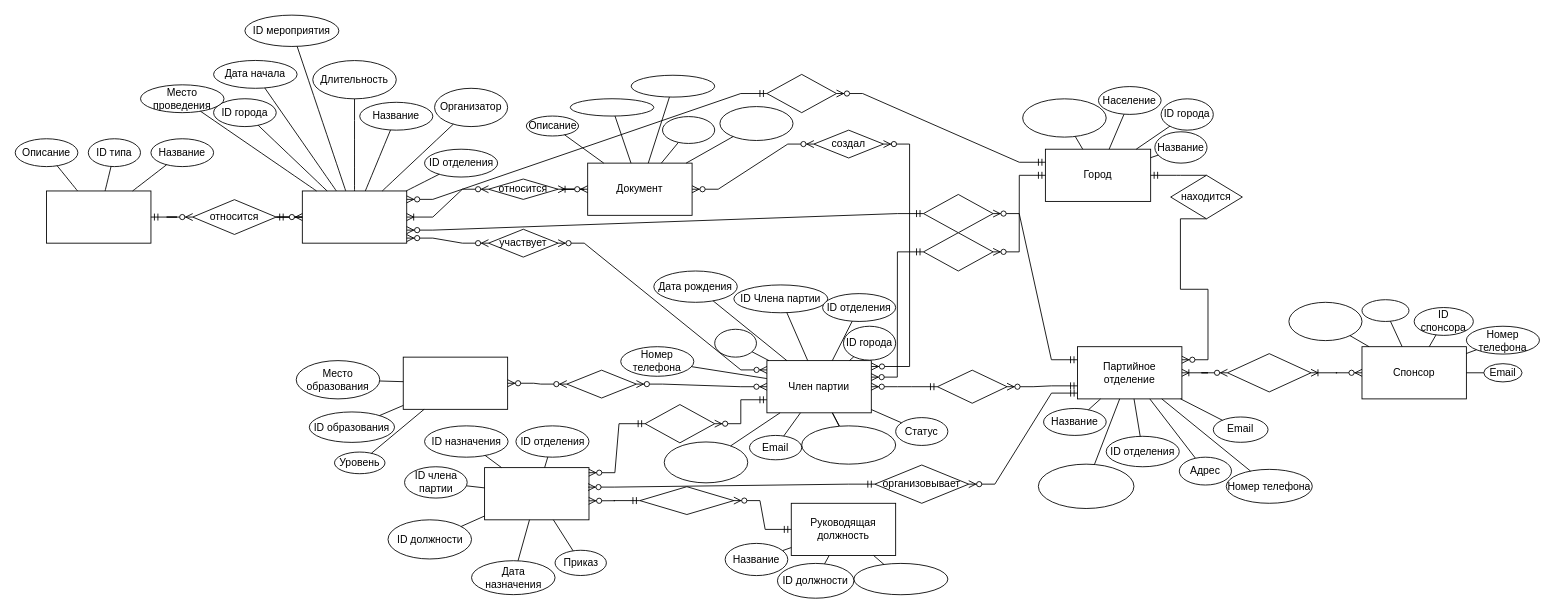
Image size: 1555x614. Some labels were removed from this diagram. Here are the shapes that lost their labels. From the top down, the centre of each, then its label:
At point (672, 85): "Дата создания".
At point (801, 93): "проводится".
At point (611, 107): "ID документа".
At point (756, 123): "Тип документа".
At point (1064, 117): "Регион/область".
At point (688, 129): "ID автора".
At point (98, 216): "Тип мероприятия".
At point (354, 216): "Мероприятие".
At point (958, 213): "ответственен".
At point (958, 251): "проживает".
At point (1325, 321): "Название организации".
At point (1385, 310): "Сумма".
At point (735, 342): "ФИО".
At point (455, 382): "Образование".
At point (601, 383): "обладает".
At point (972, 386): "прописан".
At point (1269, 372): "финансирует".
At point (679, 423): "назначен".
At point (705, 462): "Адрес проживания".
At point (848, 444): "Дата вступления".
At point (536, 493): "Назначение на должность".
At point (686, 500): "соответствует".
At point (1085, 486): "ID вышестоящего отделения".
At point (900, 579): "Уровень доступа".
